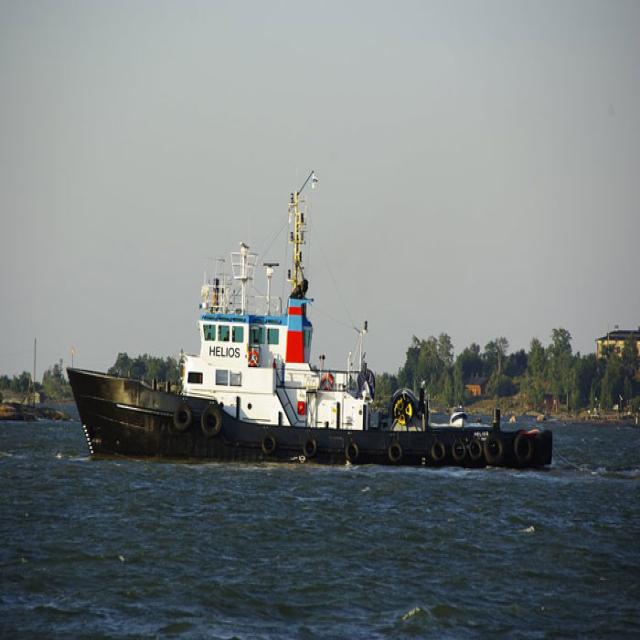fishing boat: (70, 182, 564, 470)
